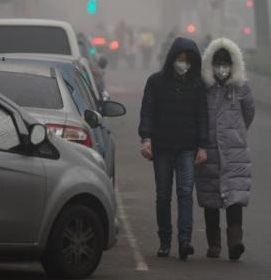person: (137, 36, 211, 260), (199, 36, 256, 265), (140, 29, 154, 69), (158, 32, 176, 63), (125, 29, 138, 69), (114, 19, 127, 41)
